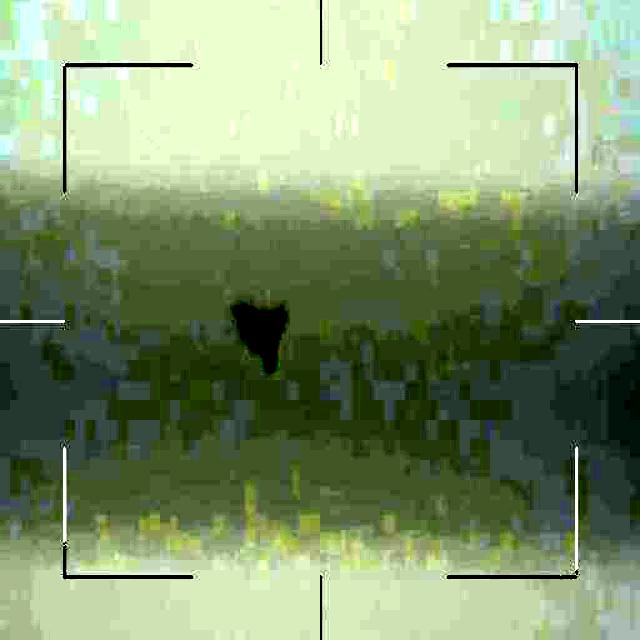bird: (229, 299, 292, 381)
